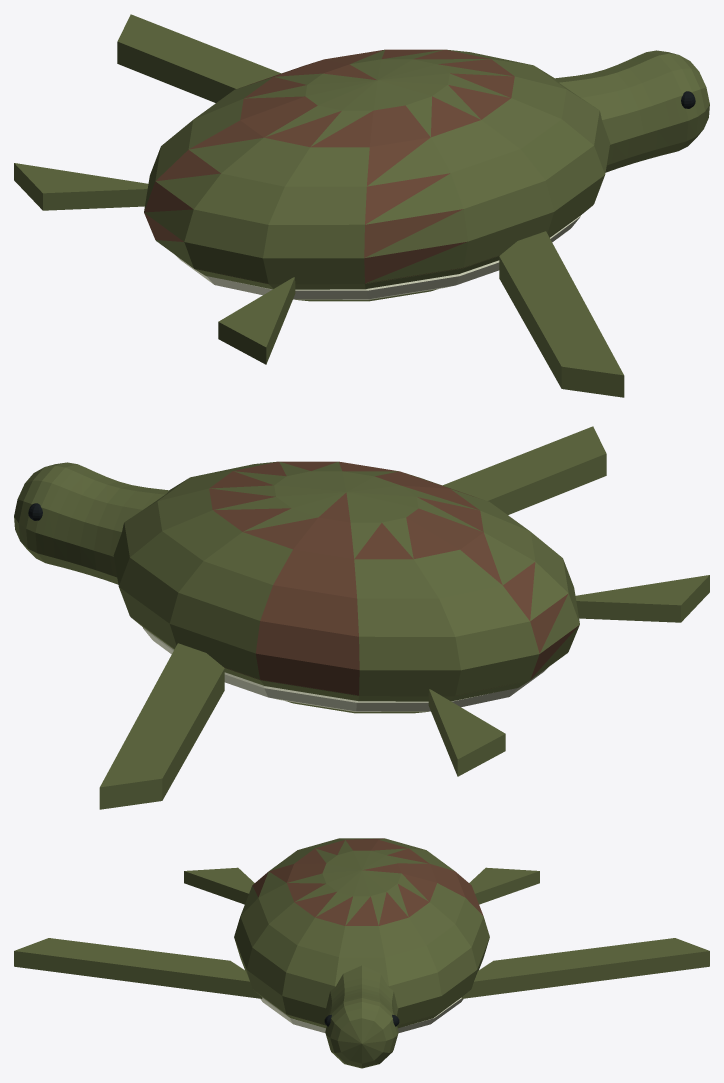
The model's file is green-sea-turtle.dae.
3 views of the same model, one above another, from view 1: azimuth 30°, elevation 25°; view 2: azimuth 150°, elevation 25°; view 3: azimuth 270°, elevation 25° (orthographic). The views are drawn at different scales.
Visible parts, largest first — view 1: part3-node, part0-node, part2-node; view 2: part3-node, part0-node, part2-node; view 3: part3-node, part0-node, part2-node.
Part boxes in pixels (x1,y1,x2,y2): part3-node: (14,14,709,397); part0-node: (144,49,514,283); part2-node: (176,215,580,299); part3-node: (14,426,709,809); part0-node: (209,461,579,695); part2-node: (143,627,547,711); part3-node: (14,838,709,1068); part0-node: (252,838,483,925); part2-node: (260,997,463,1032).
Bounding box in the file's own units: 1.05 × 1.57 × 0.3337.
